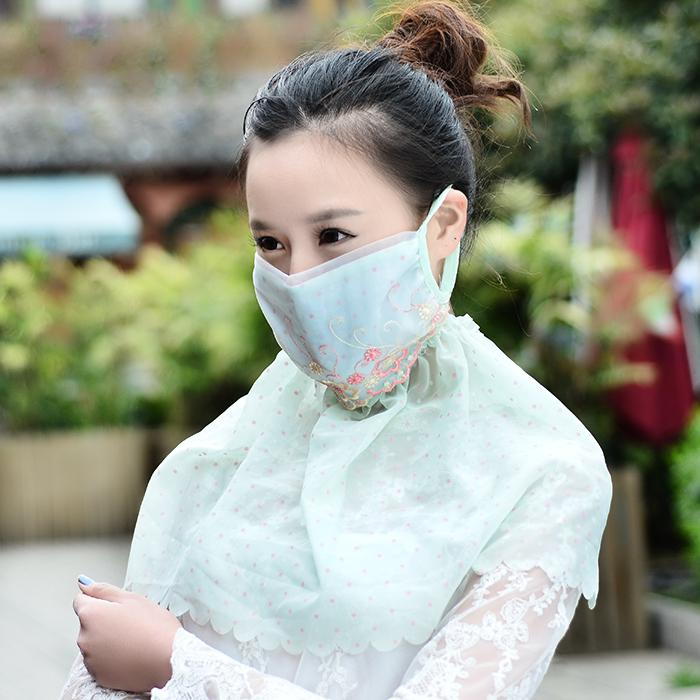OK: (251, 178, 447, 374)
